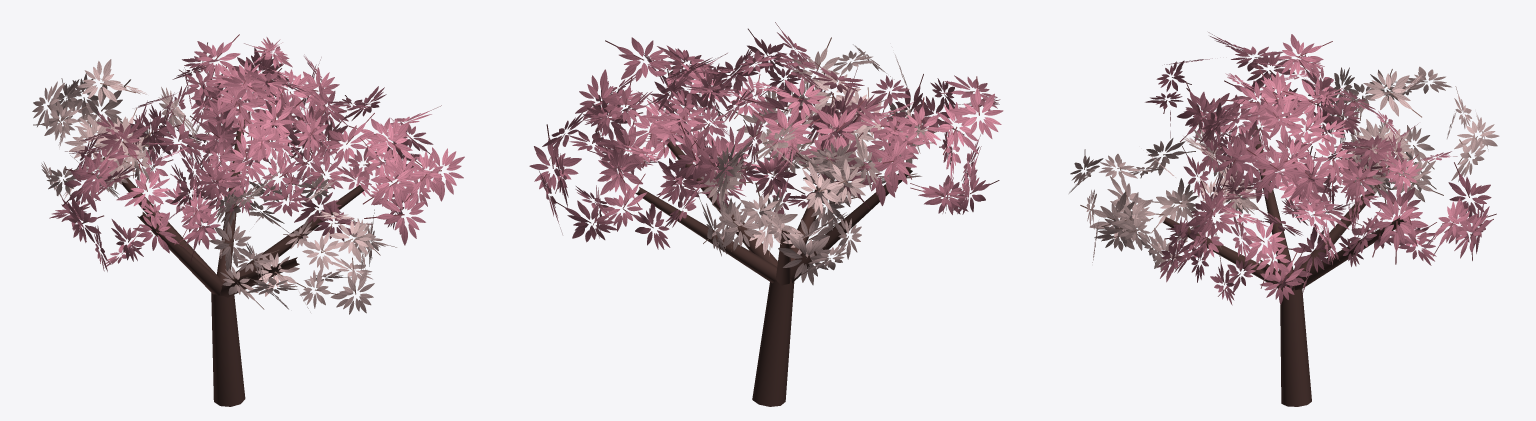
File: cherry.glb
The picture shows the model from 3 angles, left to right: view 1: azimuth 30°, elevation 25°; view 2: azimuth 150°, elevation 25°; view 3: azimuth 270°, elevation 25°; orthographic projection. The views are drawn at different scales.
Visible parts, largest first — view 1: Cherry; view 2: Cherry; view 3: Cherry.
Boxes of the visible parts, x1,y1,x2,y2 form: Cherry: (32, 34, 464, 406); Cherry: (529, 22, 1003, 406); Cherry: (1069, 32, 1499, 406).
Size of the model in its own units: 7.46 by 5.99 by 7.72.
3 materials, 2 textured.
